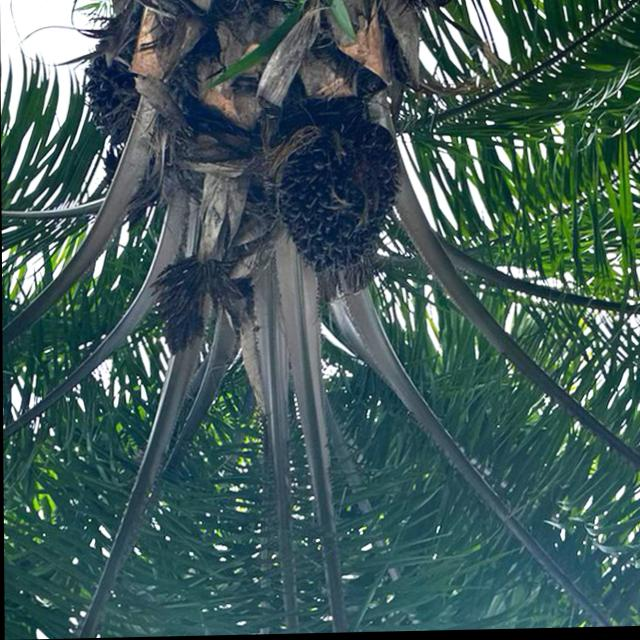almost: (265, 111, 406, 283)
